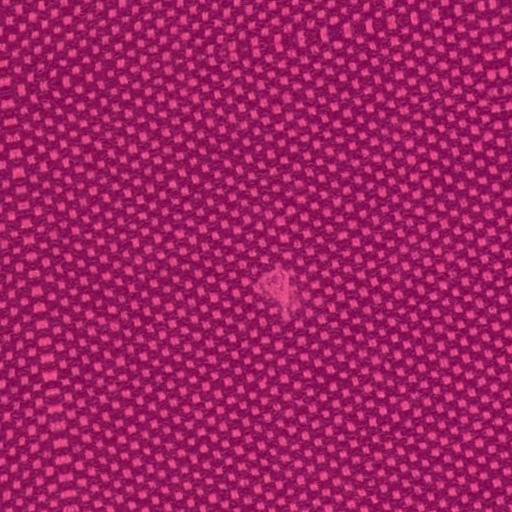knot: (250, 258, 305, 331)
